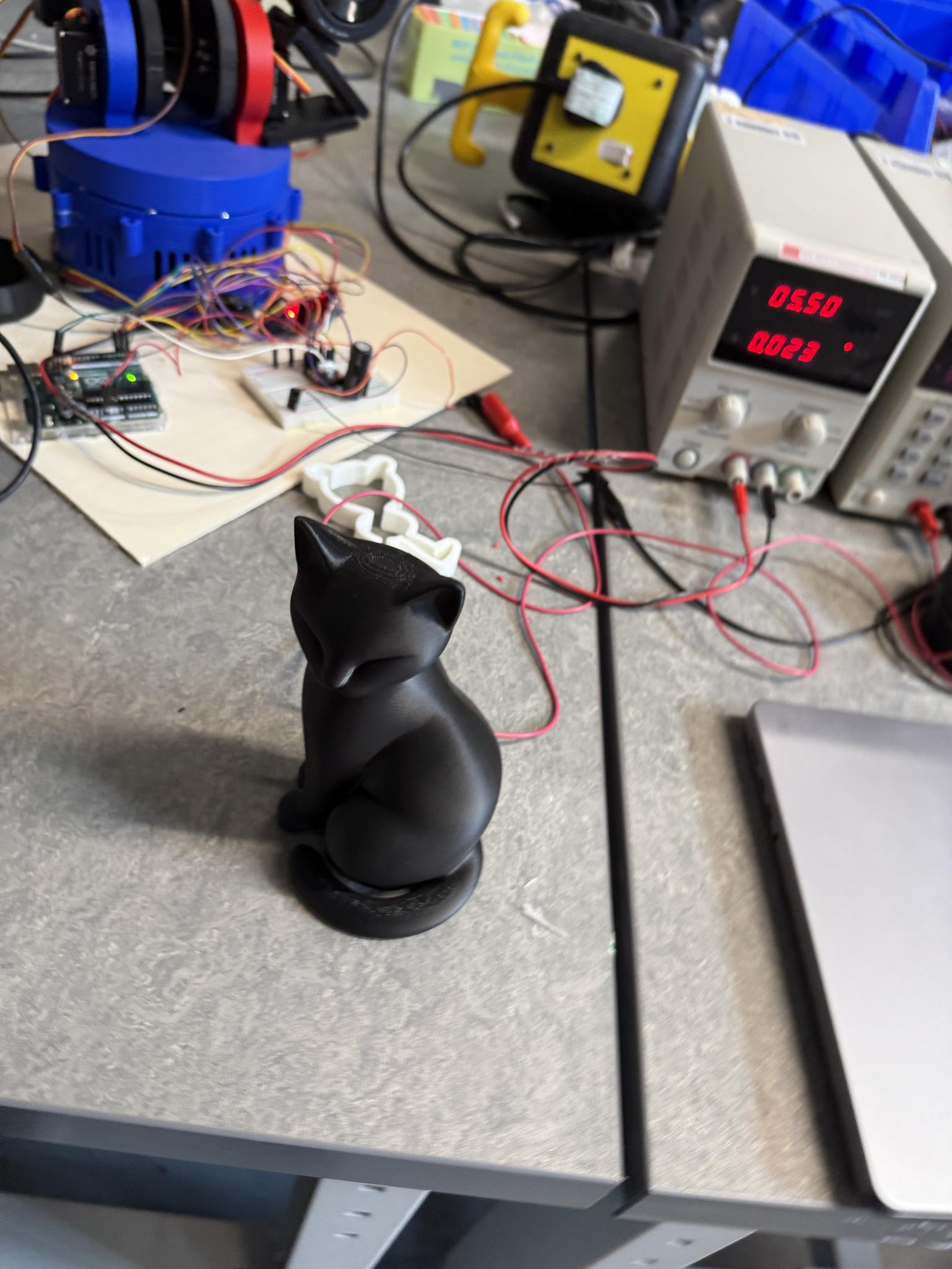cat: (276, 510, 503, 940)
